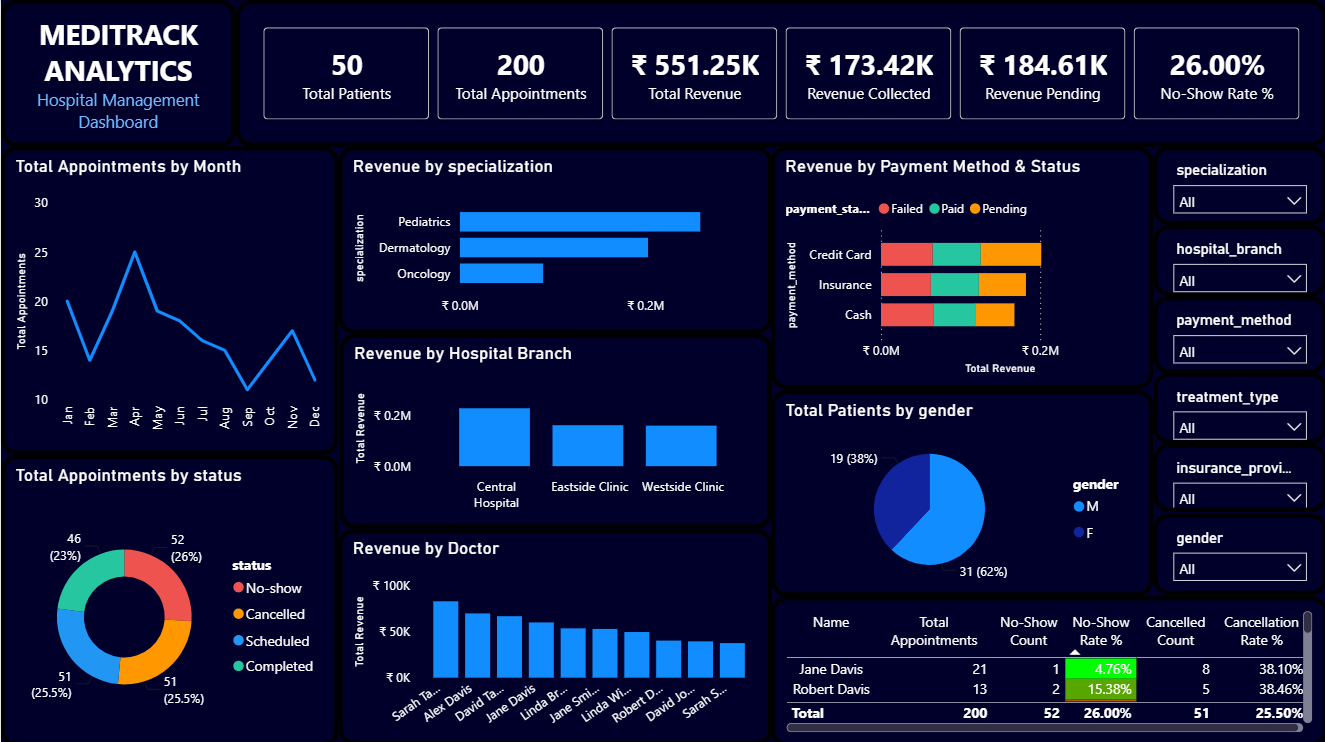

This screenshot's page, from the dashboard's own definition file:
{"tool":"powerbi","page":{"name":"Page 1","canvas":[1280,720],"ordinal":0},"visuals":[{"type":"cardVisual","fields":{"Data":["Fact_Visits.Total Patients","Fact_Visits.Total Appointments","Fact_Visits.Total Revenue","Fact_Visits.Revenue Collected","Fact_Visits.Revenue Pending","Fact_Visits.No-Show Rate %"]},"box":[227.1,0,1052.9,141.4],"z":0},{"type":"lineChart","fields":{"Category":["Dim_Date.Month"],"Y":["Fact_Visits.Total Appointments"]},"box":[0,141.3,325.2,297.8],"z":1000},{"type":"donutChart","fields":{"Y":["Fact_Visits.Total Appointments"],"Category":["Fact_Visits.status"]},"box":[0,439.1,325.2,281.3],"z":2000},{"type":"slicer","fields":{"Values":["doctors.specialization"]},"box":[1112.9,141.4,167.1,75.7],"z":3000},{"type":"slicer","fields":{"Values":["doctors.hospital_branch"]},"box":[1112.9,217.1,167.1,68.6],"z":4000},{"type":"slicer","fields":{"Values":["Fact_Visits.payment_method"]},"box":[1112.9,285.7,167.1,74.3],"z":5000},{"type":"slicer","fields":{"Values":["Fact_Visits.treatment_type"]},"box":[1112.9,360,167.1,68.6],"z":6000},{"type":"slicer","fields":{"Values":["patients.insurance_provider"]},"box":[1112.9,428.6,167.1,65.7],"z":7000},{"type":"slicer","fields":{"Values":["patients.gender"]},"box":[1112.9,495.7,167.1,78.6],"z":8000},{"type":"clusteredBarChart","title":"Revenue by specialization","fields":{"Category":["doctors.specialization"],"Y":["Fact_Visits.Total Revenue"]},"box":[325.2,141.3,418.5,181.1],"z":9000},{"type":"clusteredColumnChart","title":"Revenue by Doctor","fields":{"Category":["doctors.Name"],"Y":["Fact_Visits.Total Revenue"]},"box":[325.2,510.5,418.5,209.9],"z":10000},{"type":"barChart","title":"Revenue by Payment Method & Status","fields":{"Category":["Fact_Visits.payment_method"],"Series":["Fact_Visits.payment_status"],"Y":["Fact_Visits.Total Revenue"]},"box":[743.7,141.3,369.1,234.6],"z":11000},{"type":"pieChart","fields":{"Y":["Fact_Visits.Total Patients"],"Category":["patients.gender"]},"box":[743.7,376,369.1,199],"z":12000},{"type":"clusteredColumnChart","title":"Revenue by Hospital Branch","fields":{"Category":["doctors.hospital_branch"],"Y":["Fact_Visits.Total Revenue"]},"box":[326.6,322.5,417.2,188],"z":13000},{"type":"tableEx","fields":{"Values":["doctors.Name","Fact_Visits.Total Appointments","Fact_Visits.No-Show Count","Fact_Visits.No-Show Rate %","Fact_Visits.Cancelled Count","Fact_Visits.Cancellation Rate %"]},"box":[743.2,575.5,536.5,145.5],"z":14000},{"type":"textbox","box":[0,0,226.4,141.3],"z":15000}]}

Visuals, with their boxes in screenshot pixels (x1, y1, x2, y2), scaled from the page's 1280x720 canvas onto the 1325x742 screenshot:
cardVisual - Fact_Visits.Total Patients x Fact_Visits.Total Appointments: crop(235, 0, 1324, 146)
lineChart - Dim_Date.Month x Fact_Visits.Total Appointments: crop(0, 146, 337, 453)
donutChart - Fact_Visits.Total Appointments x Fact_Visits.status: crop(0, 453, 337, 741)
slicer - doctors.specialization: crop(1152, 146, 1324, 224)
slicer - doctors.hospital_branch: crop(1152, 224, 1324, 294)
slicer - Fact_Visits.payment_method: crop(1152, 294, 1324, 371)
slicer - Fact_Visits.treatment_type: crop(1152, 371, 1324, 442)
slicer - patients.insurance_provider: crop(1152, 442, 1324, 509)
slicer - patients.gender: crop(1152, 511, 1324, 592)
"Revenue by specialization" clusteredBarChart: crop(337, 146, 770, 332)
"Revenue by Doctor" clusteredColumnChart: crop(337, 526, 770, 741)
"Revenue by Payment Method & Status" barChart: crop(770, 146, 1152, 387)
pieChart - Fact_Visits.Total Patients x patients.gender: crop(770, 387, 1152, 593)
"Revenue by Hospital Branch" clusteredColumnChart: crop(338, 332, 770, 526)
tableEx - doctors.Name x Fact_Visits.Total Appointments: crop(769, 593, 1324, 741)
textbox: crop(0, 0, 234, 146)
